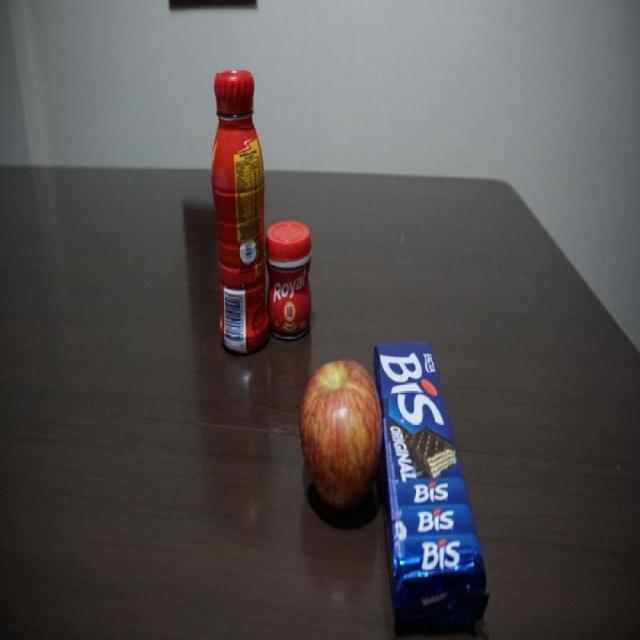Apple: (298, 355, 379, 509)
ChocolateMilk: (210, 70, 268, 358)
Yeast: (270, 218, 312, 343)
